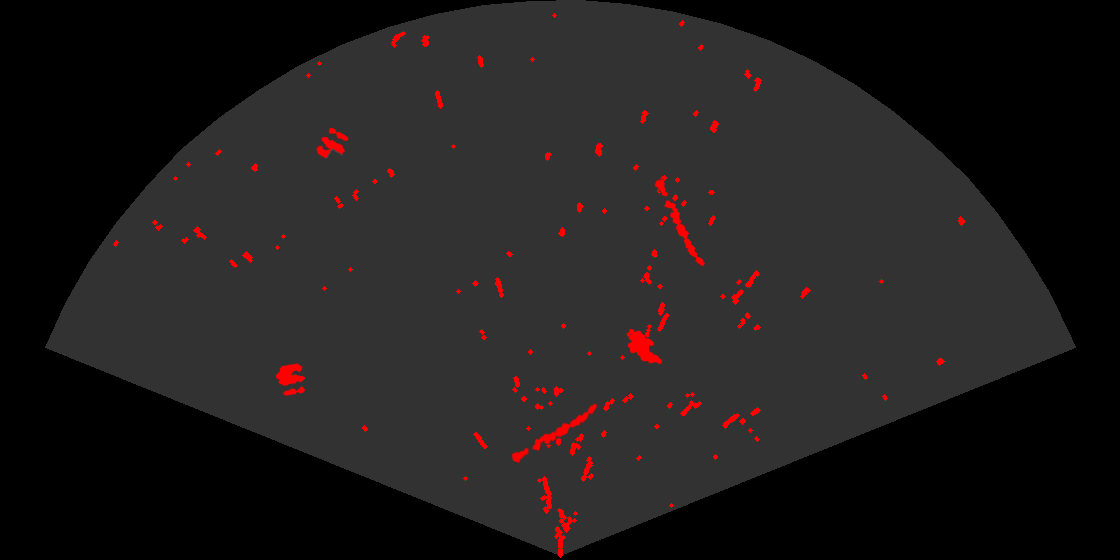AUV: (625, 327, 664, 366)
ball: (315, 126, 350, 160), (274, 362, 307, 397)
chain: (510, 402, 599, 464), (653, 177, 706, 268)
